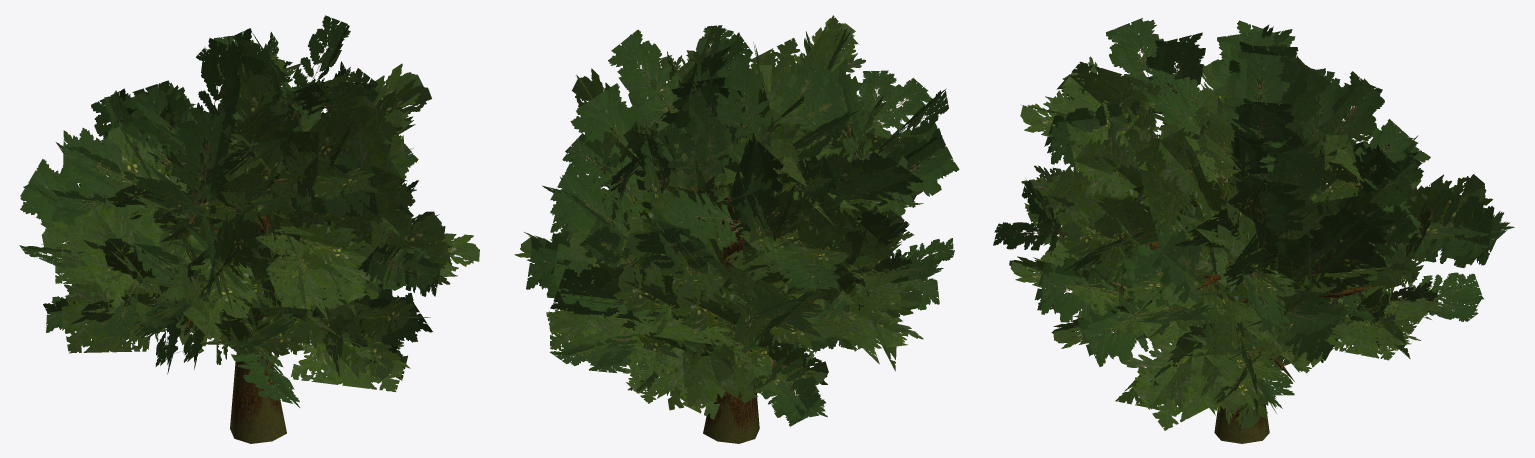
File: Optimized Oak Tree.fbx
The picture shows the model from 3 angles, left to right: view 1: azimuth 30°, elevation 25°; view 2: azimuth 150°, elevation 25°; view 3: azimuth 270°, elevation 25°; orthographic projection.
Parts seen in each view (by area): view 1: Optimized Oak Tree LOD, Optimized Oak Tree; view 2: Optimized Oak Tree LOD, Optimized Oak Tree; view 3: Optimized Oak Tree LOD, Optimized Oak Tree.
Boxes of the visible parts, bbox=[...] form: Optimized Oak Tree LOD: bbox=[19, 15, 479, 407]; Optimized Oak Tree: bbox=[28, 27, 478, 443]; Optimized Oak Tree LOD: bbox=[514, 15, 959, 426]; Optimized Oak Tree: bbox=[518, 26, 948, 443]; Optimized Oak Tree LOD: bbox=[993, 18, 1514, 436]; Optimized Oak Tree: bbox=[1001, 29, 1494, 443].
Size of what is drawn, in the model's own units: 530 by 509 by 430.
